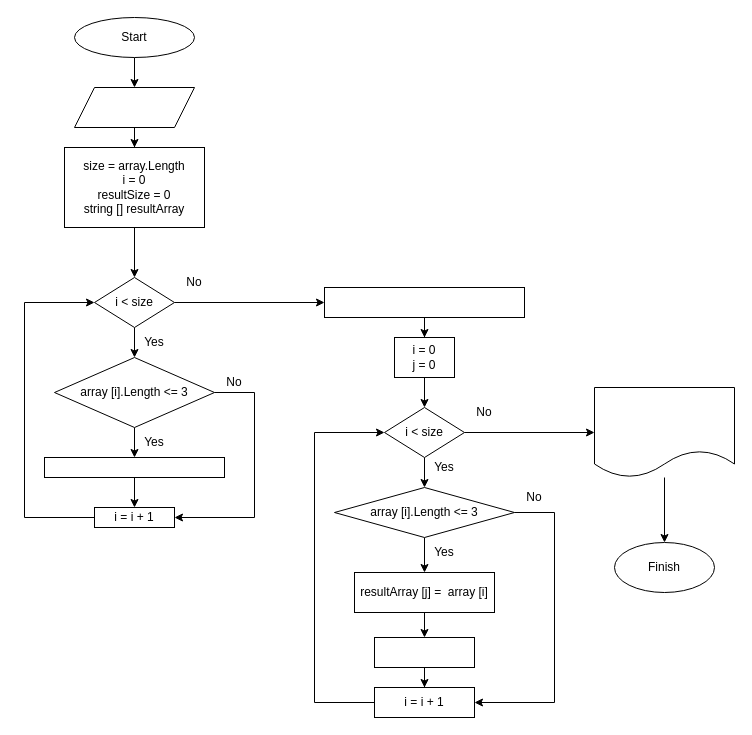
Image size: 752x735. Some labels were removed from this diagram. Here are the shapes that lost their labels. From the top down, the centre of each, then its label:
At (x=134, y=107): "string [ ] array".
At (x=424, y=302): "resultArray.Length = resultSize".
At (x=664, y=432): "print Array print resultArray".
At (x=134, y=467): "resultSize = resultSize + 1".
At (x=424, y=652): "j = j + 1".
